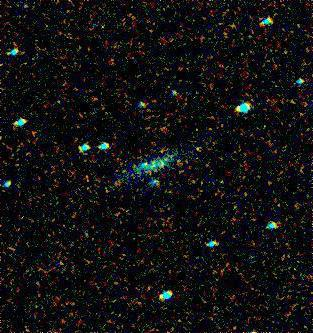star: (182, 133, 212, 163)
